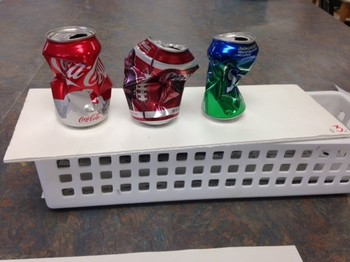can: (42, 26, 114, 129), (122, 35, 200, 127), (201, 31, 259, 121)
